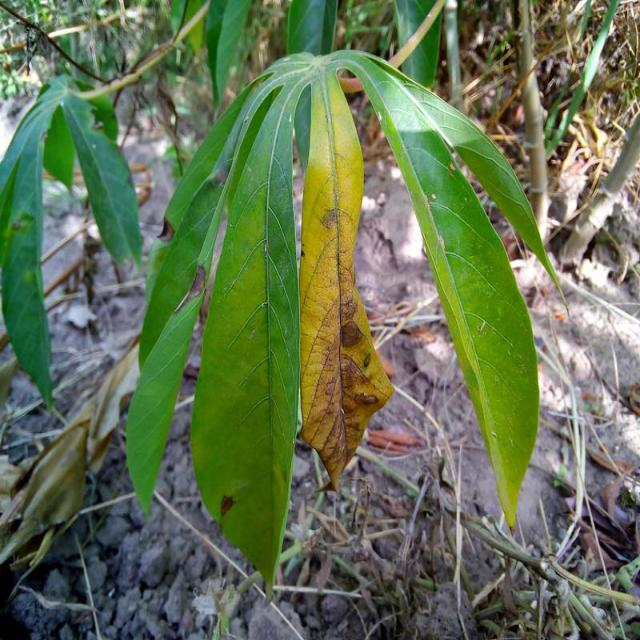cassava leaf: (126, 43, 557, 593), (330, 48, 542, 530), (189, 64, 303, 599), (297, 66, 394, 494)
